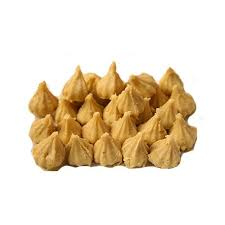modak: (58, 129, 109, 170), (119, 132, 158, 173), (36, 135, 77, 173), (148, 137, 195, 170), (62, 58, 98, 101), (163, 114, 202, 152), (74, 92, 115, 127), (99, 62, 132, 104), (30, 107, 62, 144), (110, 112, 144, 144), (29, 81, 60, 116), (95, 135, 131, 165), (130, 72, 163, 102)
